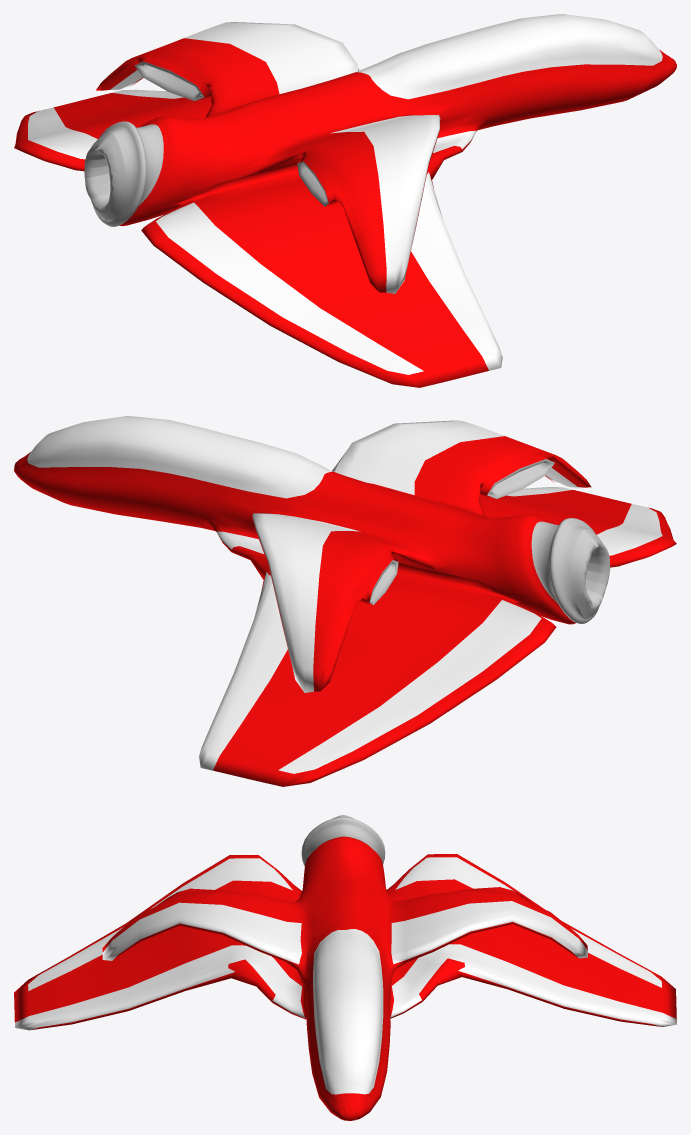
Rendered from R-Ship_Resized.fbx.
3 views of the same model, one above another, from view 1: azimuth 30°, elevation 25°; view 2: azimuth 150°, elevation 25°; view 3: azimuth 270°, elevation 25° (orthographic). The views are drawn at different scales.
Visible parts, largest first — view 1: R_Ship3; view 2: R_Ship3; view 3: R_Ship3.
Part boxes in pixels (x1,y1,x2,y2): R_Ship3: (14,14,676,387); R_Ship3: (14,416,676,786); R_Ship3: (14,815,676,1120).
Bounding box in the file's own units: 47.92 × 11.71 × 53.16.
